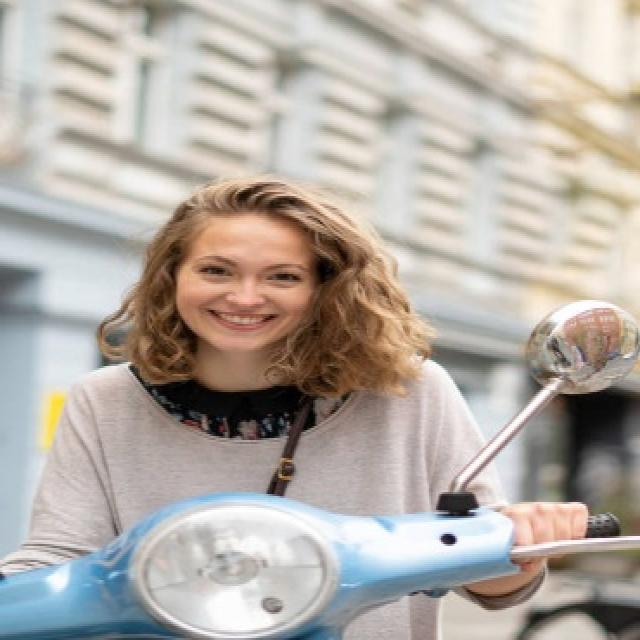adult: (0, 186, 613, 586)
